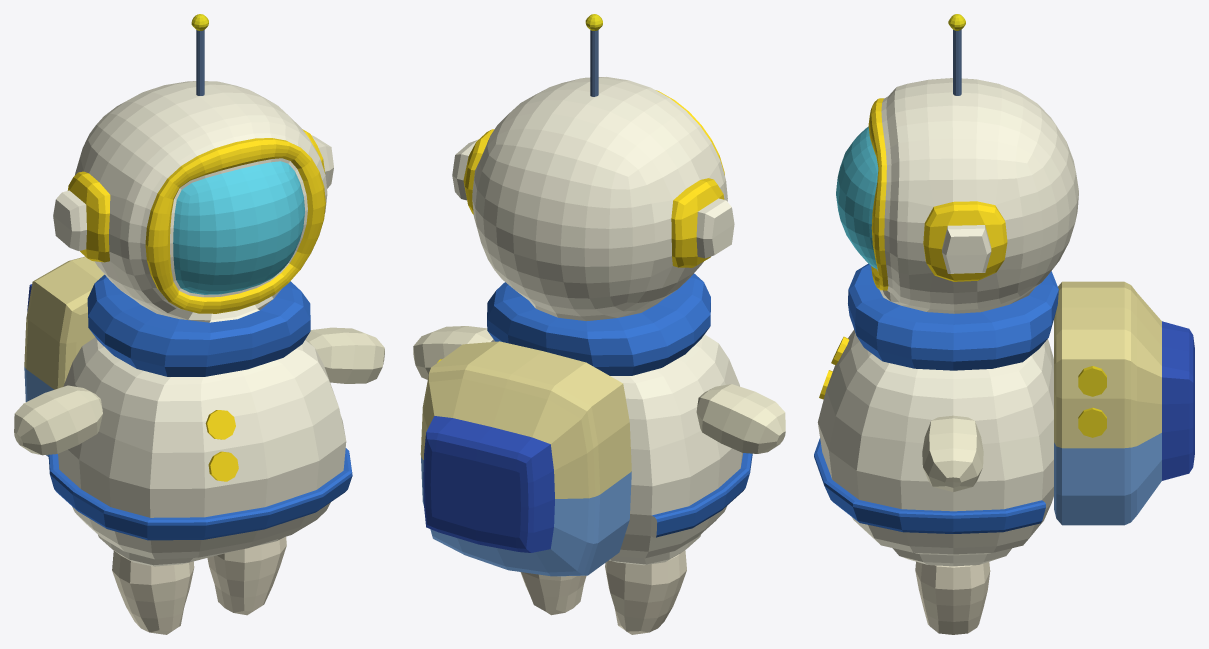
File: Astronaut.glb
3 renders of one model, left to right at view 1: azimuth 30°, elevation 25°; view 2: azimuth 150°, elevation 25°; view 3: azimuth 270°, elevation 25°, orthographic.
Visible parts, largest first — view 1: AstronautBody, Cube.003, Cube.002, Cube.001, Antena; view 2: AstronautBody, Cube.001, Cube.002, Cube.003, Antena; view 3: AstronautBody, Cube.001, Cube.003, Cube.002, Antena.
Boxes of the visible parts, left/top/right/bottom form: AstronautBody: left=48, top=81, right=352, bottom=566; Cube.003: left=112, top=536, right=286, bottom=634; Cube.002: left=14, top=327, right=384, bottom=455; Cube.001: left=24, top=256, right=104, bottom=456; Antena: left=191, top=14, right=208, bottom=95; AstronautBody: left=452, top=77, right=752, bottom=565; Cube.001: left=420, top=341, right=631, bottom=576; Cube.002: left=413, top=326, right=785, bottom=453; Cube.003: left=520, top=550, right=686, bottom=634; Antena: left=585, top=14, right=602, bottom=96; AstronautBody: left=814, top=78, right=1078, bottom=566; Cube.001: left=1054, top=281, right=1194, bottom=525; Cube.003: left=915, top=561, right=990, bottom=634; Cube.002: left=922, top=415, right=983, bottom=491; Antena: left=948, top=14, right=965, bottom=95.
Size of the model in its own units: 0.7907 by 1.25 by 0.7186.
